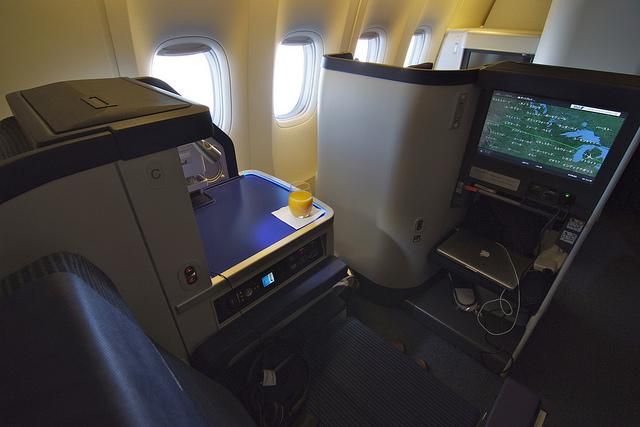cup: (288, 181, 312, 217)
